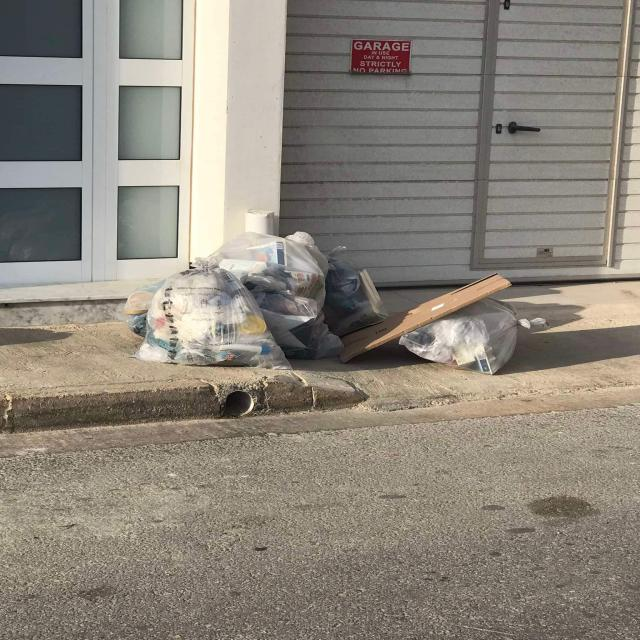Other: (338, 274, 512, 364)
Recycled Waste -Grey or Green Bag-: (124, 234, 349, 364), (140, 258, 292, 370), (398, 299, 551, 376), (322, 247, 391, 338)
